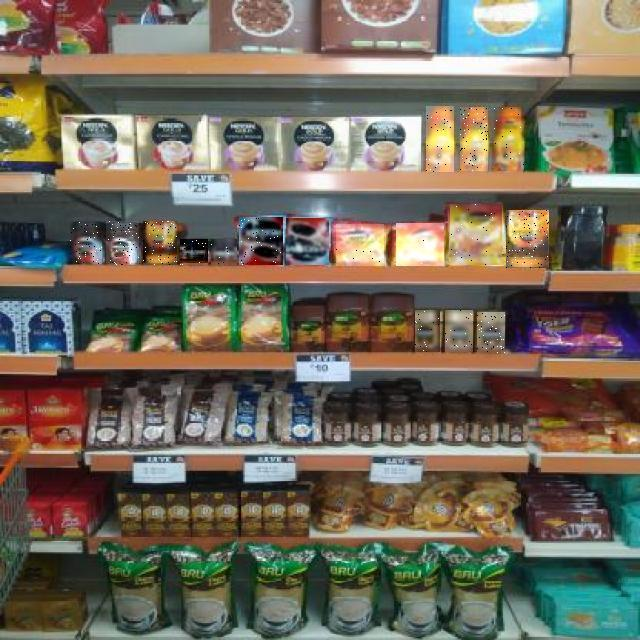Coffee: (450, 204, 502, 265), (506, 210, 549, 268), (239, 217, 283, 265), (396, 223, 444, 266), (286, 218, 329, 265), (336, 225, 384, 267), (494, 107, 524, 171), (426, 106, 454, 172), (461, 107, 489, 171), (143, 221, 177, 265), (106, 221, 139, 265), (70, 222, 102, 264), (445, 311, 473, 353), (477, 312, 505, 353), (415, 311, 440, 353), (181, 240, 209, 266), (211, 240, 237, 266)
